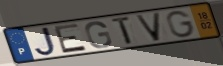E: (52, 22, 89, 55)
G: (165, 10, 196, 39), (84, 20, 114, 49)
J: (34, 26, 58, 58)
T: (111, 15, 135, 47)
V: (133, 11, 163, 43)
